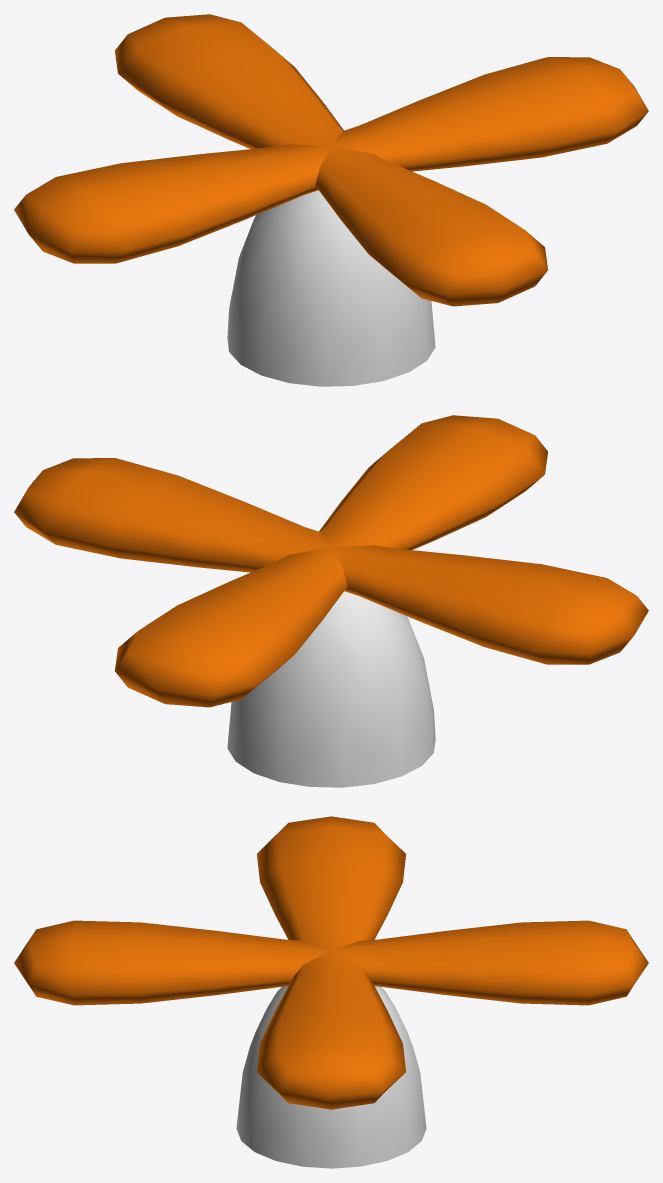
The model's file is flying_countdown_propeller.fbx.
3 renders of one model, top to bottom at view 1: azimuth 30°, elevation 25°; view 2: azimuth 150°, elevation 25°; view 3: azimuth 270°, elevation 25°, orthographic. The views are drawn at different scales.
Visible parts, largest first — view 1: Cube.001; view 2: Cube.001; view 3: Cube.001.
Part boxes in pixels (bbox=[...]): Cube.001: bbox=[14, 14, 648, 386]; Cube.001: bbox=[14, 415, 648, 787]; Cube.001: bbox=[14, 816, 648, 1168].
Size of the model in its own units: 126 by 42.16 by 126.
